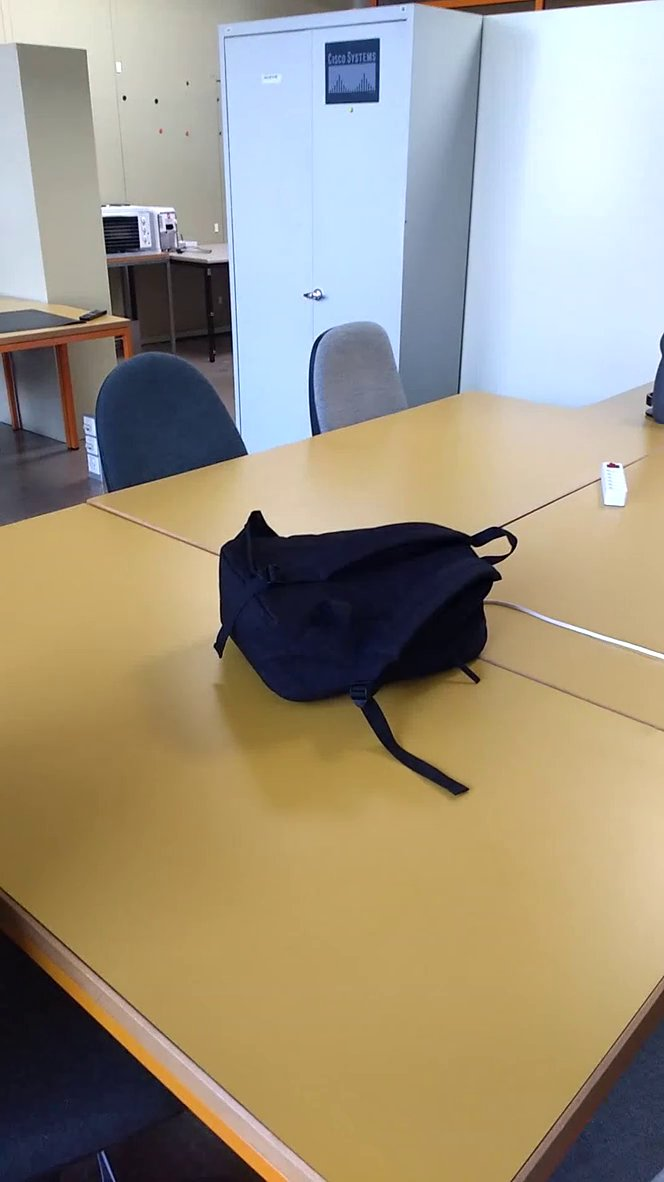bag: (195, 491, 529, 806)
chair: (85, 342, 255, 507), (299, 318, 427, 446)
